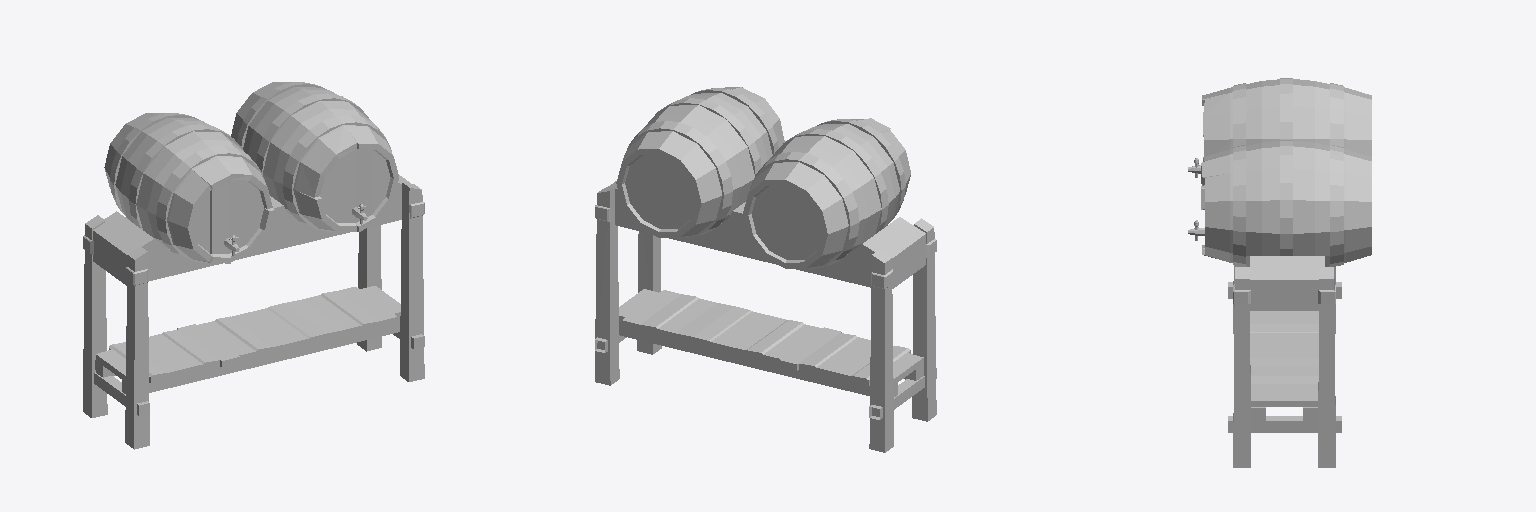
Rendered from Barrel_Holder.obj.
3 views of the same model, side by side, from view 1: azimuth 30°, elevation 25°; view 2: azimuth 150°, elevation 25°; view 3: azimuth 270°, elevation 25° (orthographic).
Parts seen in each view (by area): view 1: Barrel_Holder_Cube.045; view 2: Barrel_Holder_Cube.045; view 3: Barrel_Holder_Cube.045.
Part boxes in pixels (x1,y1,x2,y2): Barrel_Holder_Cube.045: (83, 82, 424, 449); Barrel_Holder_Cube.045: (595, 87, 936, 452); Barrel_Holder_Cube.045: (1188, 78, 1371, 467).
Size of the model in its own units: 1.36 by 1.26 by 0.741.